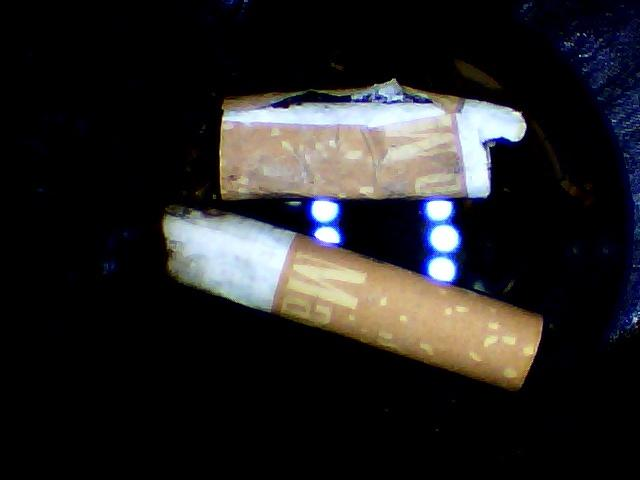megot: (149, 198, 551, 391), (191, 73, 543, 202)
